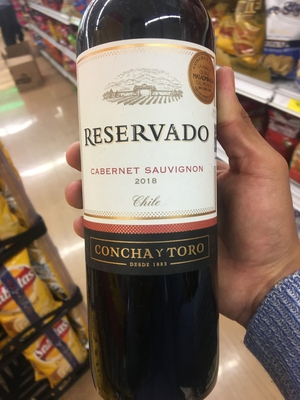reservado cabernet sauvignon: (73, 3, 232, 391)
